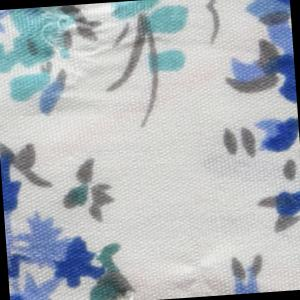Damage: (14, 1, 177, 119), (165, 247, 240, 300)
